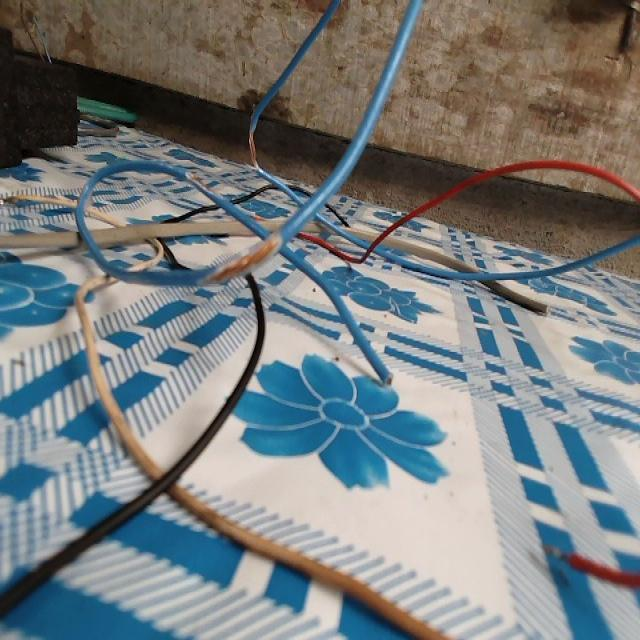-: (201, 232, 283, 295), (183, 166, 228, 206), (243, 124, 262, 169)
